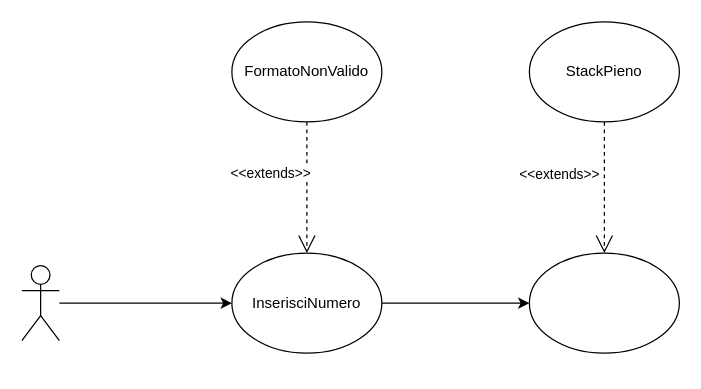
Some shapes in this 701 by 389 pixel diagram are drawn without their labels. The shapes that lost their labels are listed below. From the top down, each one's box as (x1, y1, x2, y2) in pixels, then its label:
(21, 264, 59, 341): Actor
(528, 252, 679, 353): AggiungiAlloStack
